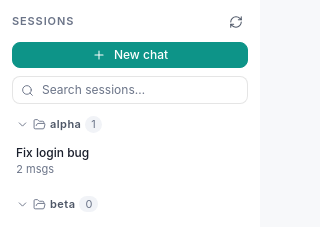
Scenario: Sidebar › search matches project name so empty groups are discoverable
Type "beta" into the field labelled "Search sessions".
click(140, 90); type("beta")  # box [42,77,239,103]
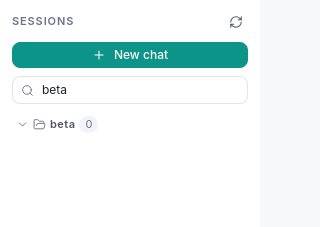
Check: the text "beta" is shown, box [50,116,75,132]
Check: the button "alpha" is gone
